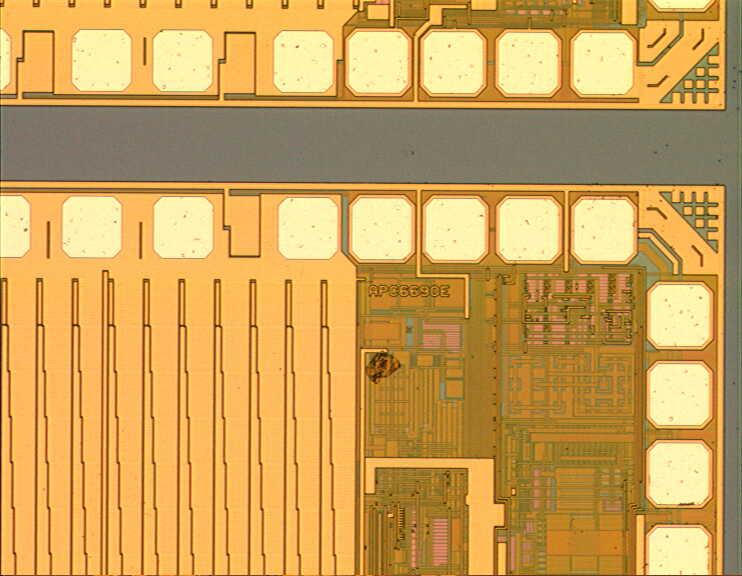PO CONTAMINATION: (365, 347, 403, 385)
